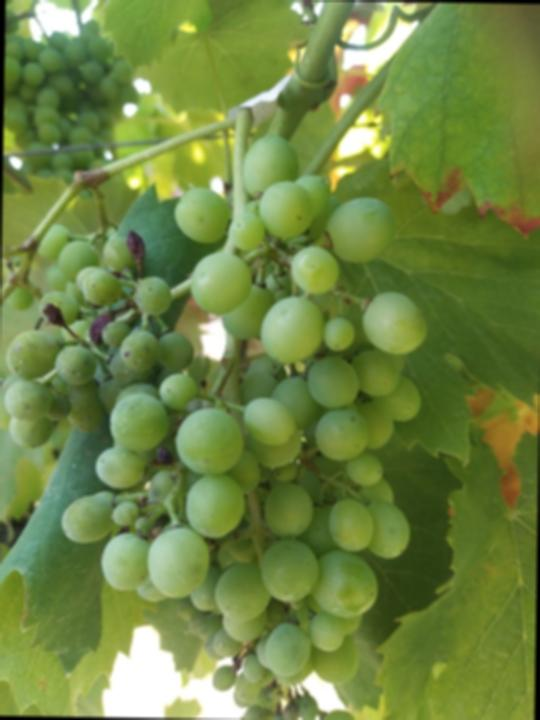grape: (1, 124, 433, 709)
